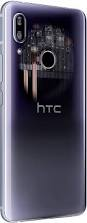htc: (1, 1, 87, 223)
